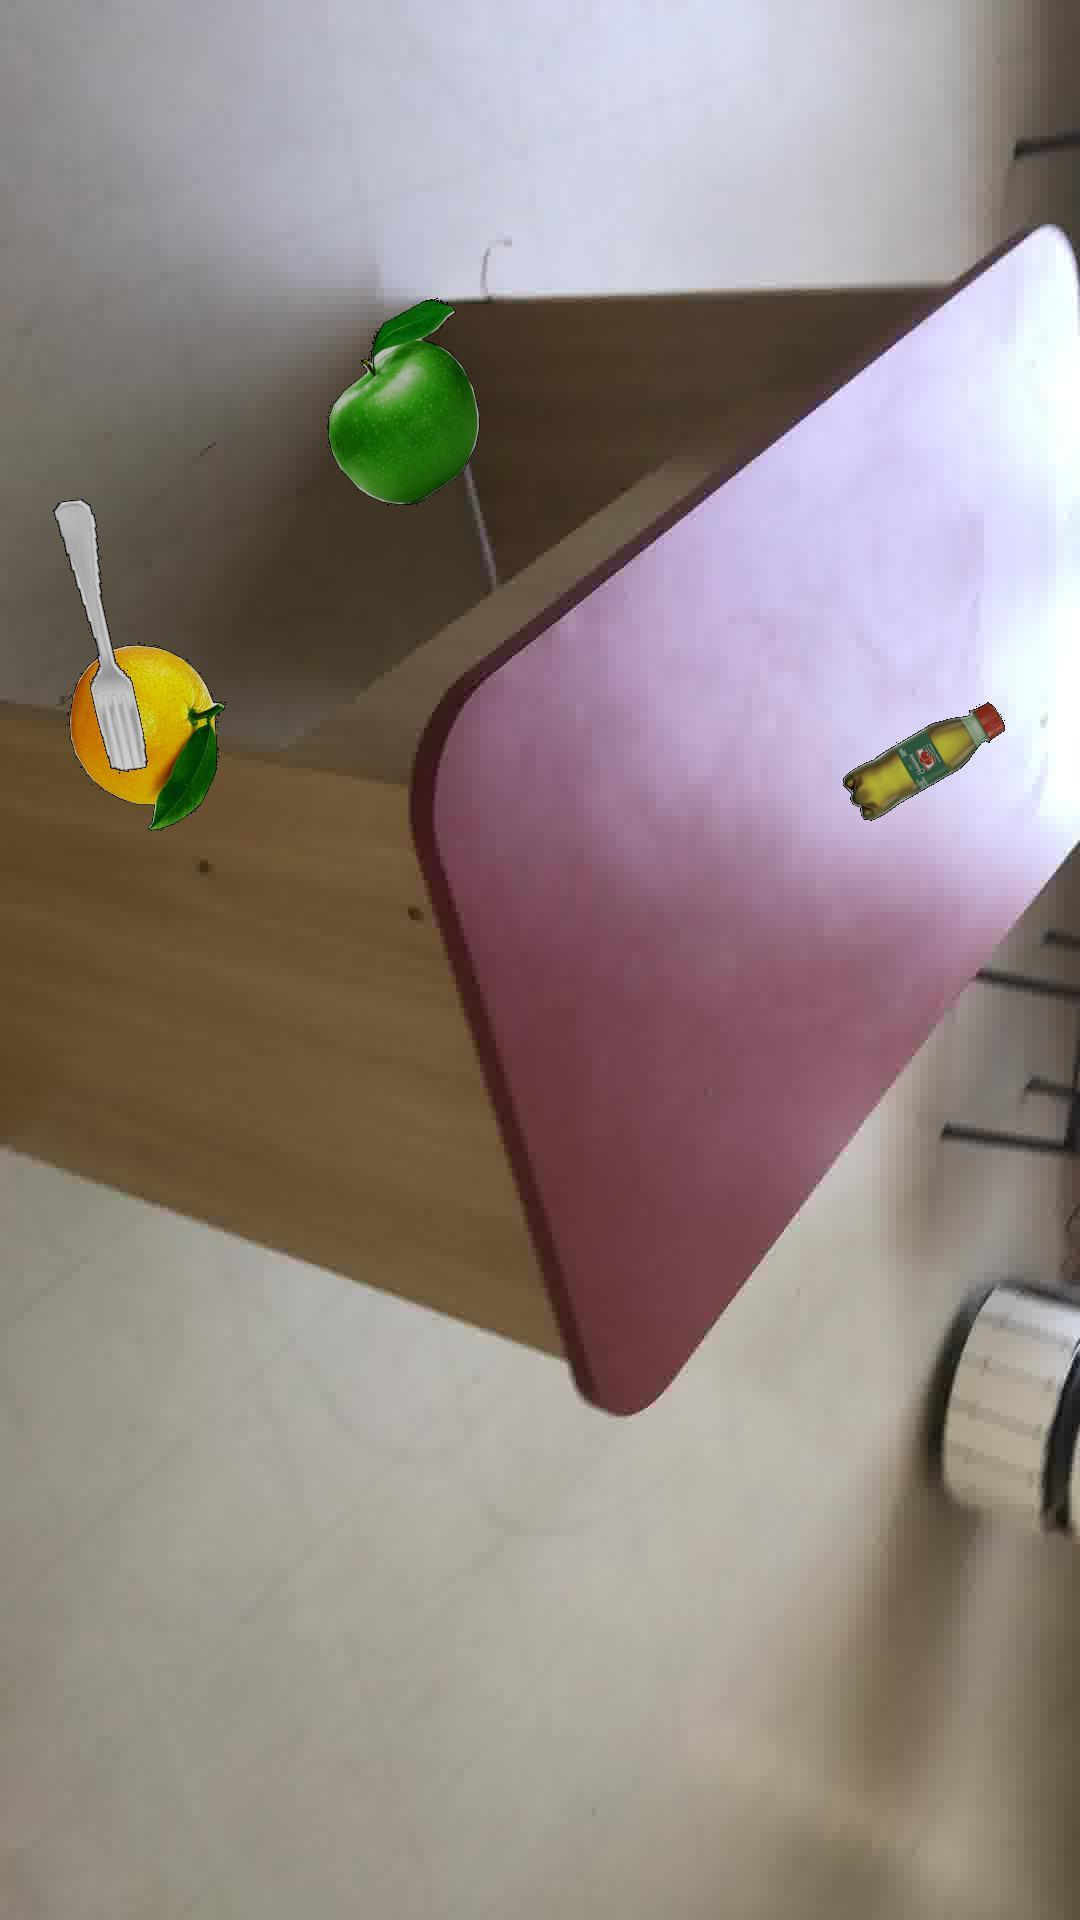fork: (51, 497, 146, 770)
green apple: (326, 298, 479, 504)
guarana: (841, 700, 1004, 819)
orange: (67, 642, 223, 829)
